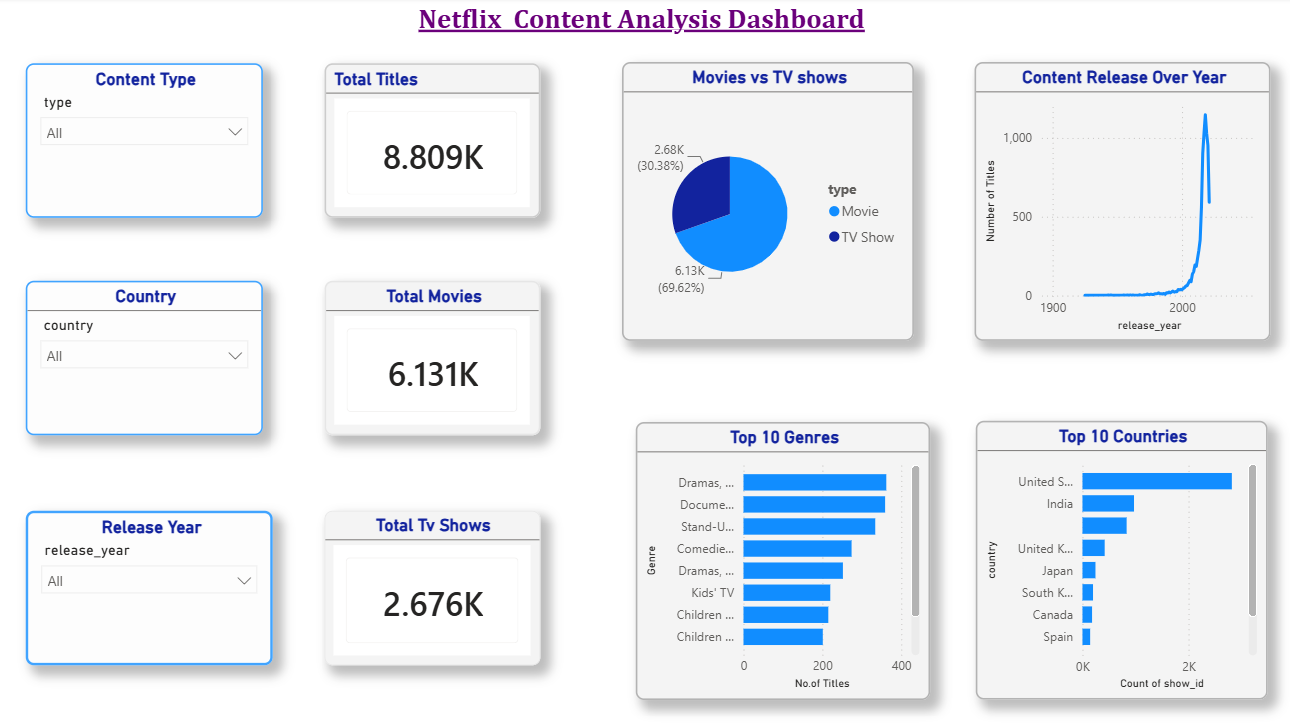

The page's visual inventory and layout, read from the dashboard file:
{"tool":"powerbi","page":{"name":"Page 1","canvas":[1280,720],"ordinal":0},"visuals":[{"type":"cardVisual","title":"Total Titles","fields":{"Data":["CountNonNull(netflix_titles.type)"]},"box":[325.2,64.5,211.3,150.9],"z":0},{"type":"cardVisual","title":"Total Movies","fields":{"Data":["CountNonNull(netflix_titles.type)"]},"box":[325.2,277.2,211.3,150.9],"z":1000},{"type":"cardVisual","title":"Total Tv Shows","fields":{"Data":["CountNonNull(netflix_titles.type)"]},"box":[325.2,502.2,211.3,150.9],"z":2000},{"type":"pieChart","title":"Movies vs TV shows","fields":{"Category":["netflix_titles.type"],"Y":["CountNonNull(netflix_titles.show_id)"]},"box":[616.7,64.1,285.9,273.1],"z":3000},{"type":"clusteredBarChart","title":"Top 10 Genres","fields":{"Category":["netflix_titles.listed_in"],"Y":["CountNonNull(netflix_titles.show_id)"]},"box":[629.8,415.8,288.2,271.7],"z":4000},{"type":"clusteredBarChart","title":"Top 10 Countries","fields":{"Category":["netflix_titles.country"],"Y":["CountNonNull(netflix_titles.show_id)"]},"box":[961.9,414.4,285.4,273.1],"z":6000},{"type":"textbox","box":[129,0,974.3,46.7],"z":7004},{"type":"slicer","title":"Country","fields":{"Values":["netflix_titles.country"]},"box":[32.9,277.2,231.9,150.9],"z":7005},{"type":"slicer","title":"Release Year","fields":{"Values":["netflix_titles.release_year"]},"box":[32.9,502.2,241.5,150.9],"z":7006},{"type":"slicer","title":"Content Type","fields":{"Values":["netflix_titles.type"]},"box":[32.9,64.5,231.9,150.9],"z":7007},{"type":"lineChart","title":"Content Release Over Year","fields":{"Category":["netflix_titles.release_year"],"Y":["CountNonNull(netflix_titles.show_id)"]},"box":[961.5,64.1,289.7,273.1],"z":7008}]}

Visuals, with their boxes in screenshot pixels (x1, y1, x2, y2), scaled from the page's 1280x720 canvas onto the 1290x726 screenshot:
"Total Titles" cardVisual: {"x1": 328, "y1": 65, "x2": 541, "y2": 217}
"Total Movies" cardVisual: {"x1": 328, "y1": 280, "x2": 541, "y2": 432}
"Total Tv Shows" cardVisual: {"x1": 328, "y1": 506, "x2": 541, "y2": 659}
"Movies vs TV shows" pieChart: {"x1": 622, "y1": 65, "x2": 910, "y2": 340}
"Top 10 Genres" clusteredBarChart: {"x1": 635, "y1": 419, "x2": 925, "y2": 693}
"Top 10 Countries" clusteredBarChart: {"x1": 969, "y1": 418, "x2": 1257, "y2": 693}
textbox: {"x1": 130, "y1": 0, "x2": 1112, "y2": 47}
"Country" slicer: {"x1": 33, "y1": 280, "x2": 267, "y2": 432}
"Release Year" slicer: {"x1": 33, "y1": 506, "x2": 277, "y2": 659}
"Content Type" slicer: {"x1": 33, "y1": 65, "x2": 267, "y2": 217}
"Content Release Over Year" lineChart: {"x1": 969, "y1": 65, "x2": 1261, "y2": 340}
